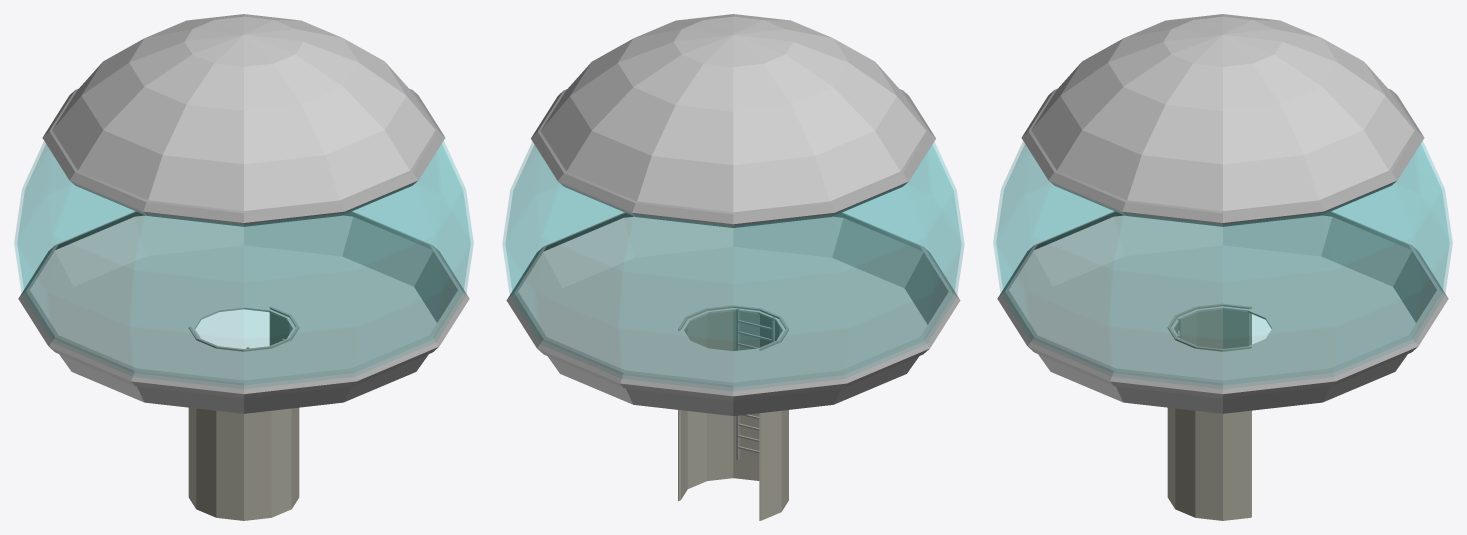
The model's file is Comand_Center.fbx.
3 views of the same model, side by side, from view 1: azimuth 30°, elevation 25°; view 2: azimuth 150°, elevation 25°; view 3: azimuth 270°, elevation 25° (orthographic).
Visible parts, largest first — view 1: Command_Center2; view 2: Command_Center2, pCube24; view 3: Command_Center2.
Part boxes in pixels (x1,y1,x2,y2): Command_Center2: [14, 14, 473, 520]; Command_Center2: [502, 14, 964, 520]; pCube24: [736, 308, 774, 459]; Command_Center2: [993, 14, 1452, 520].
Size of the model in its own units: 8 by 8.89 by 8.
